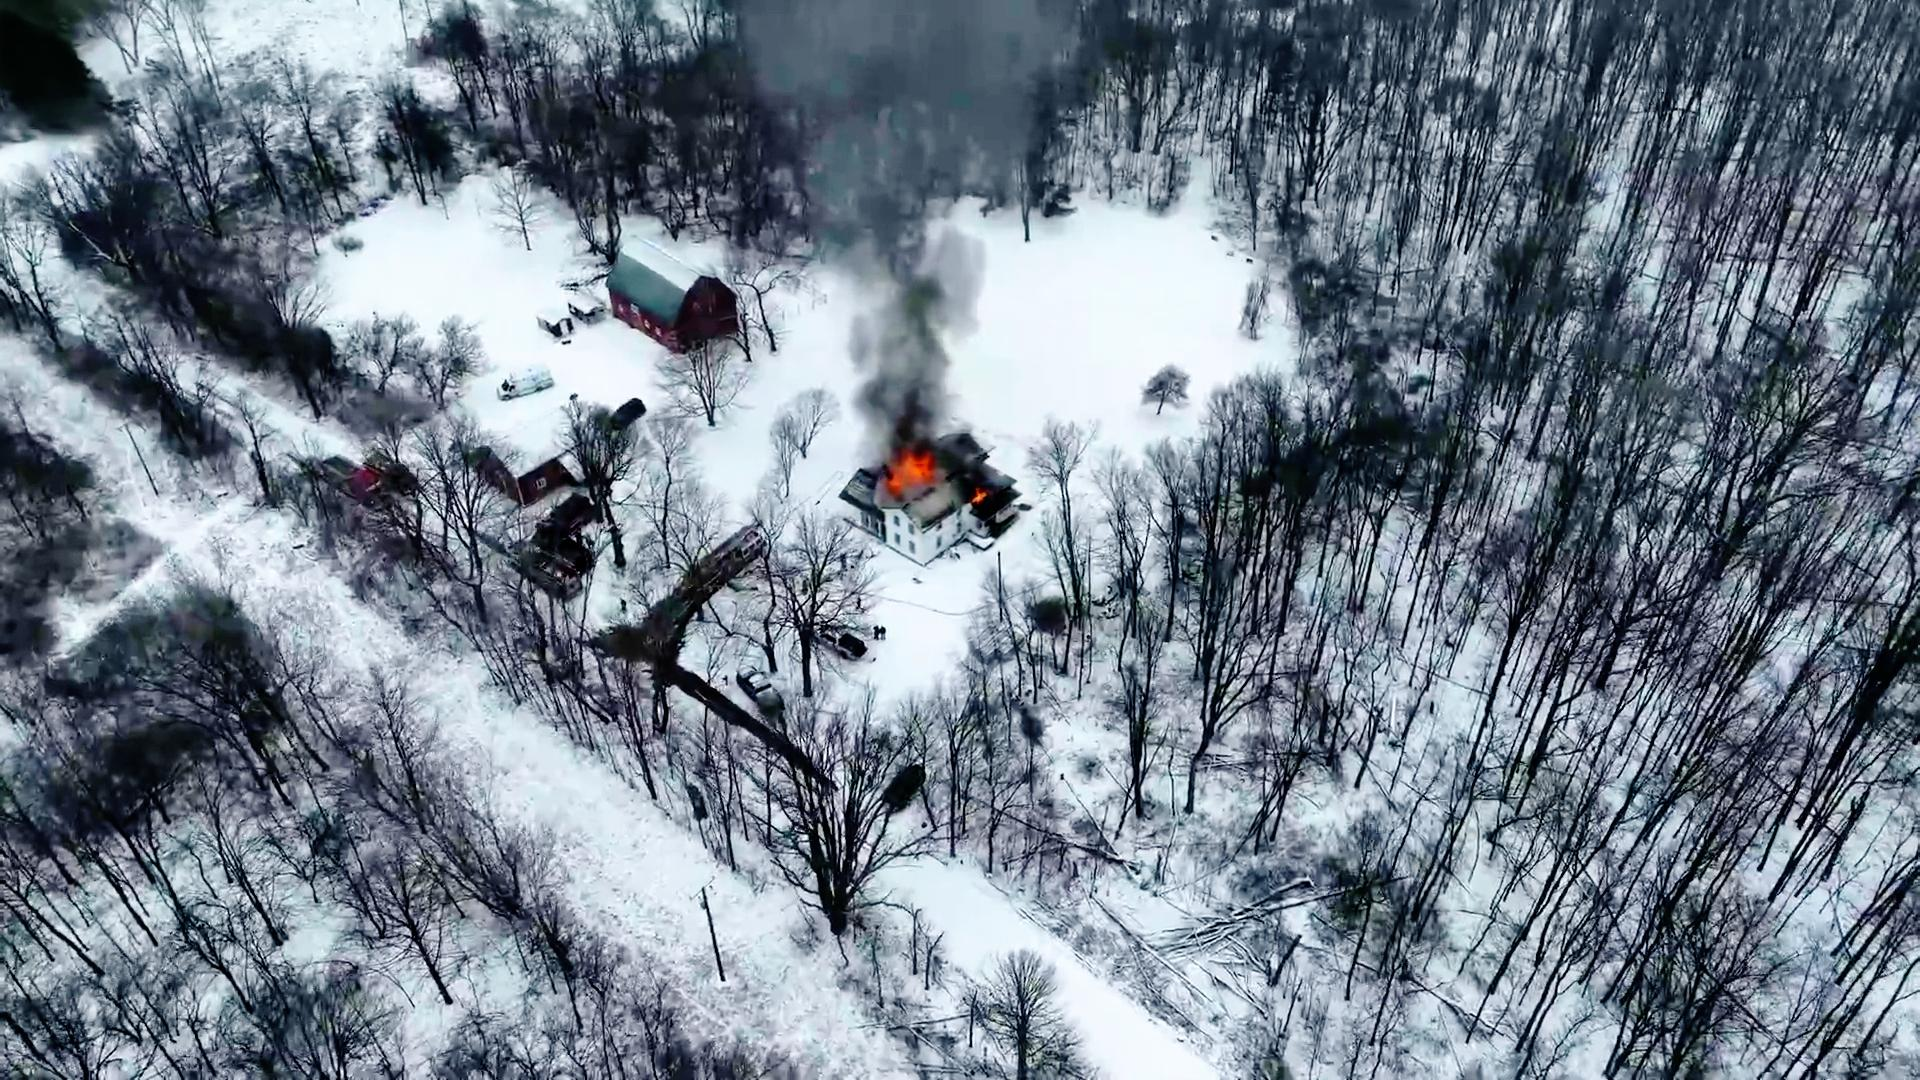fire: (893, 440, 939, 484)
smoke: (814, 22, 977, 409)
